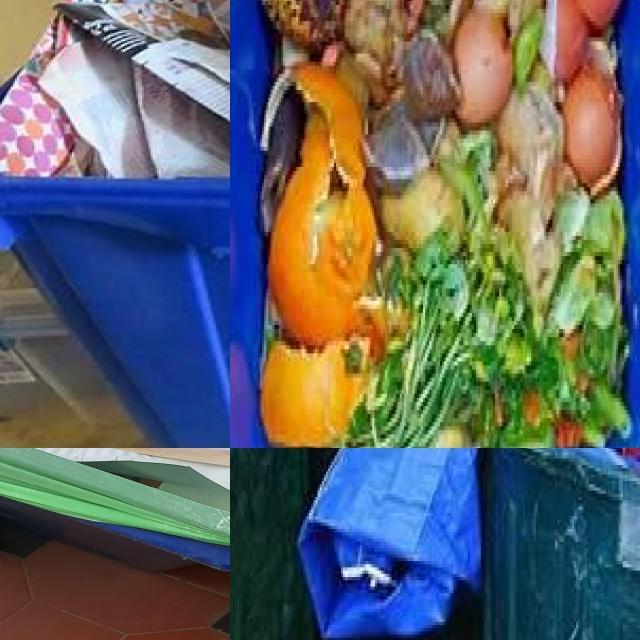Garbage: (255, 0, 634, 448), (0, 0, 230, 179), (299, 448, 478, 638)
